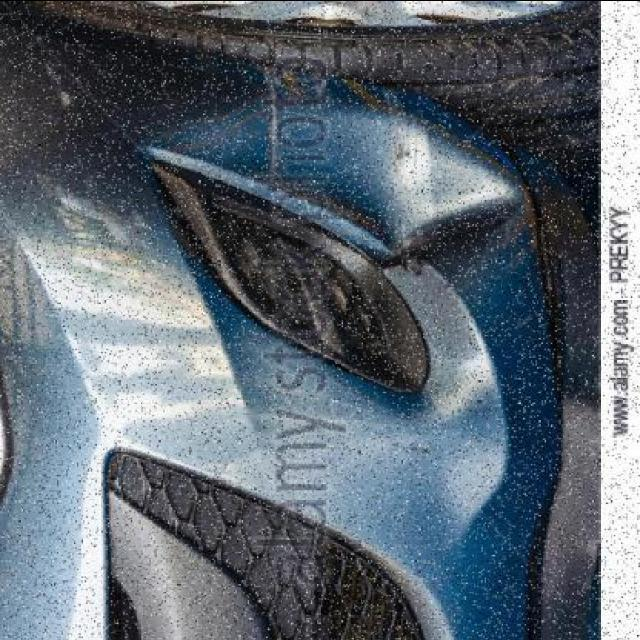front-bumper-dent: (248, 72, 539, 640)
